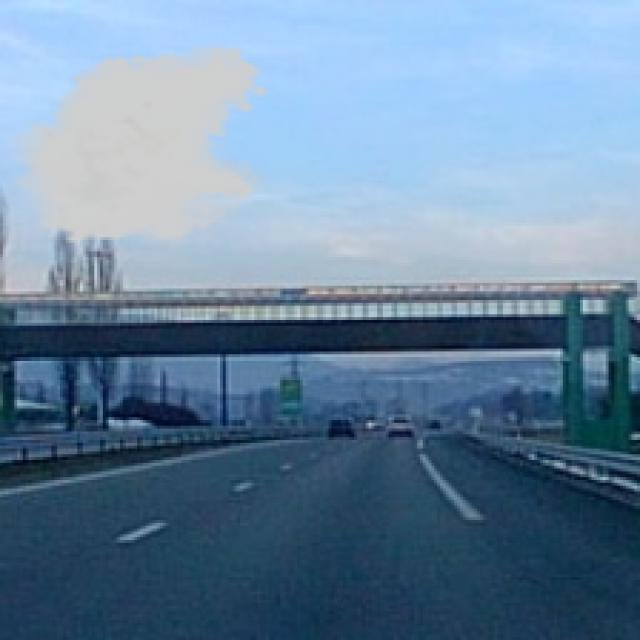Smoke: (0, 42, 272, 258)
